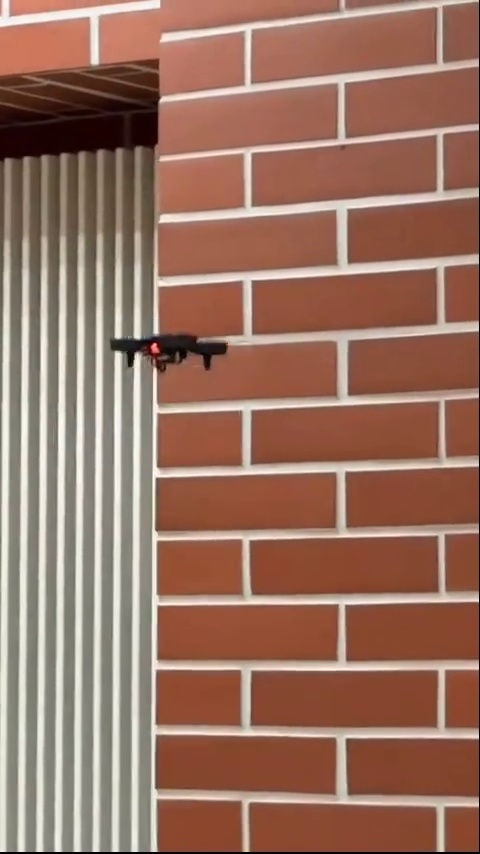drone: (102, 331, 229, 380)
